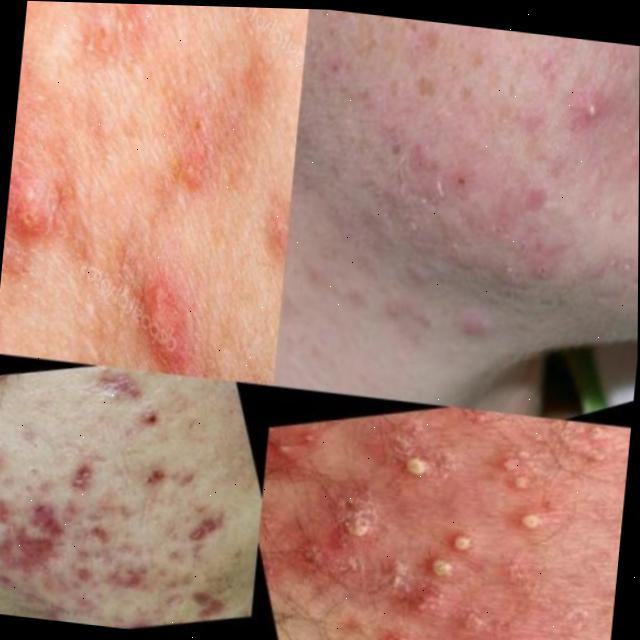Acne: (299, 9, 640, 352), (0, 0, 302, 370), (256, 383, 604, 640), (0, 352, 252, 634)
